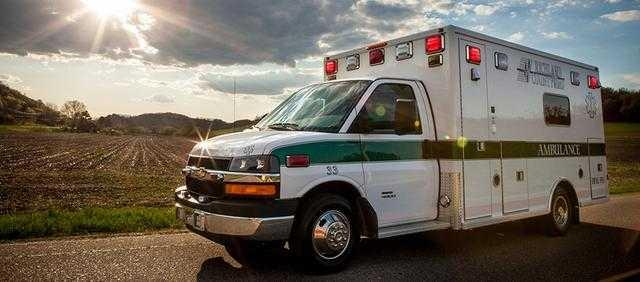car: (173, 24, 609, 271)
